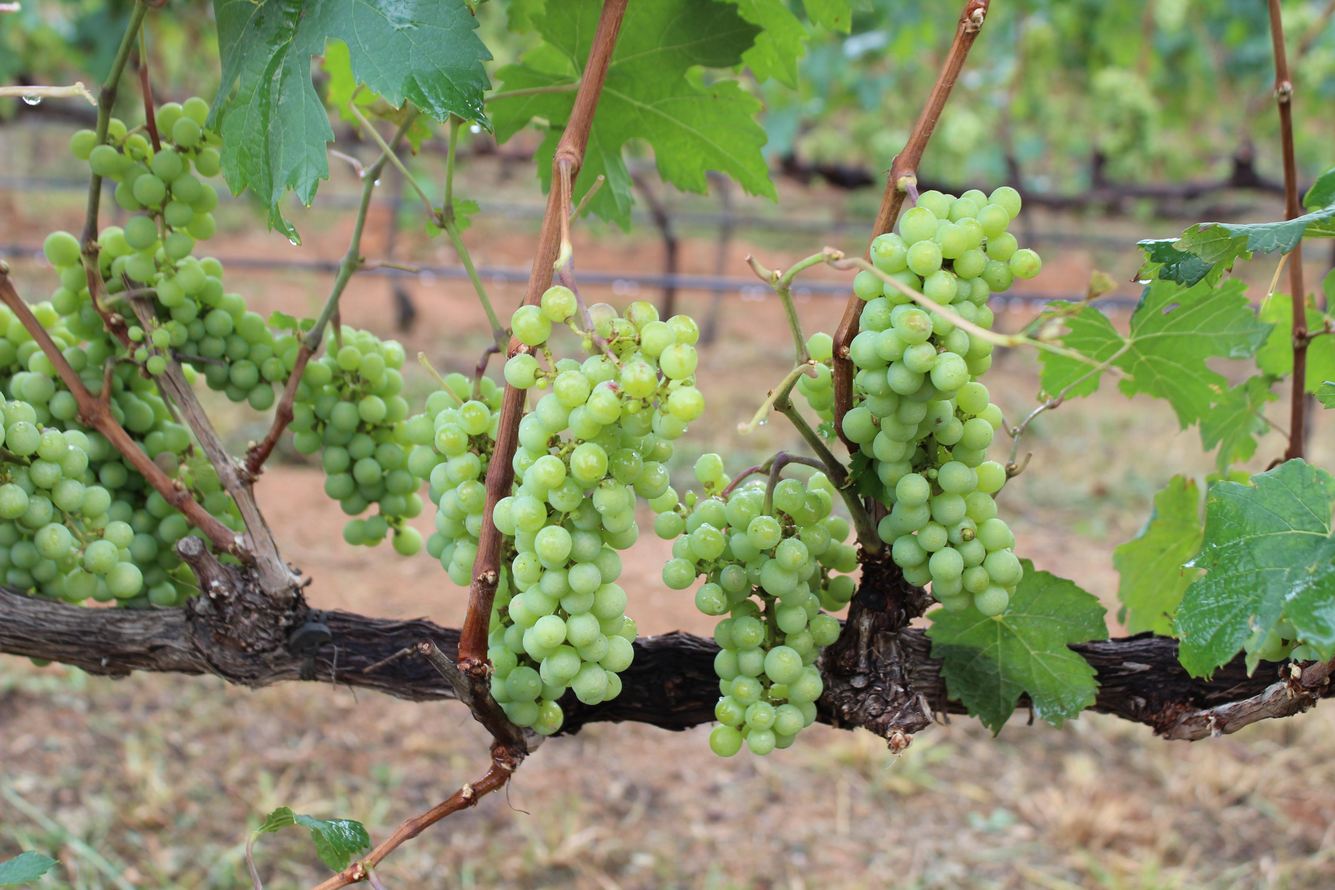leaf: (210, 0, 491, 241), (575, 0, 775, 227), (1175, 459, 1335, 676), (1062, 278, 1271, 427), (927, 560, 1107, 732), (1113, 475, 1203, 635), (1174, 204, 1335, 268), (491, 93, 571, 188), (255, 806, 370, 871), (1200, 375, 1277, 472), (730, 0, 808, 88), (533, 0, 601, 75), (295, 814, 371, 871), (1137, 238, 1215, 286), (1061, 306, 1124, 362), (1256, 293, 1293, 377), (1039, 350, 1102, 397), (0, 850, 58, 886), (1040, 352, 1089, 394), (1306, 335, 1335, 391), (803, 0, 852, 33), (498, 62, 553, 91), (1303, 166, 1335, 210), (1306, 297, 1329, 331), (1071, 373, 1101, 394), (1314, 380, 1335, 408), (519, 125, 522, 125)
